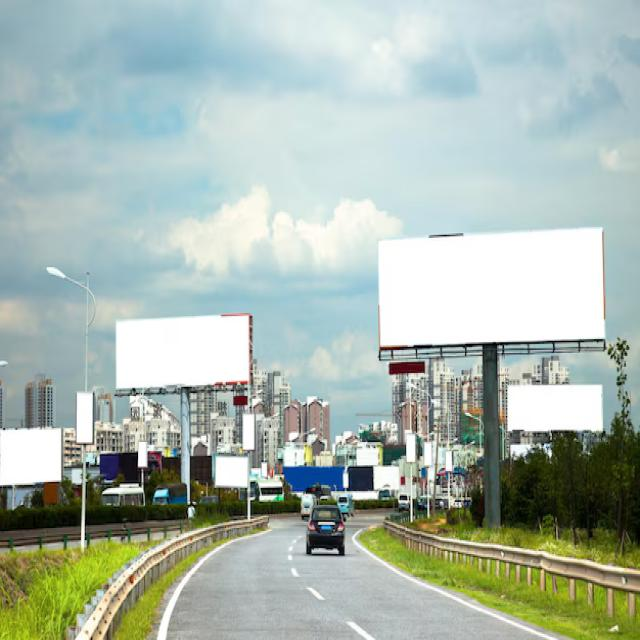Billboard_LHS: (114, 310, 259, 401)
Billboard_RHS: (368, 222, 616, 362)
Billboard_small: (501, 372, 607, 450), (0, 422, 62, 496), (209, 444, 262, 512), (70, 380, 100, 454), (404, 421, 420, 462), (135, 437, 151, 474)
Roadcorner: (359, 539, 582, 638), (148, 527, 260, 638)
Roadlane: (278, 517, 384, 638)
